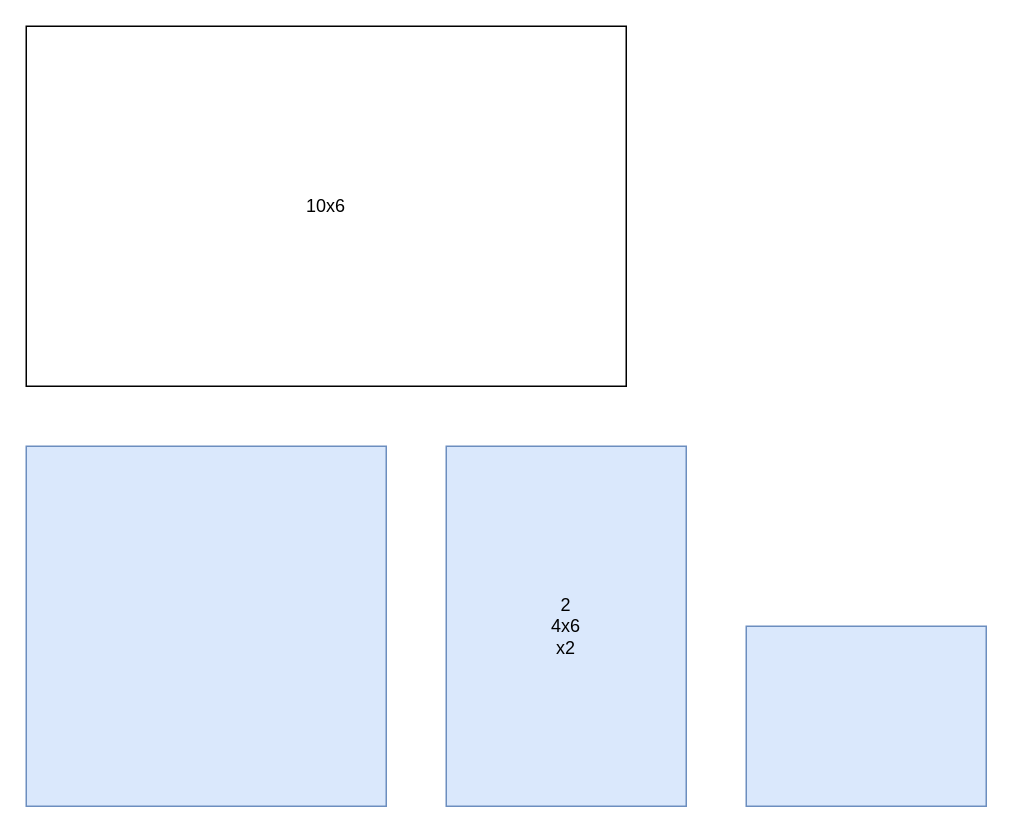
The diagram is 1013 pixels wide and 833 high, and some of its shapes have lost their labels. Here are the shapes that lost their labels. From the top down, the centre of each, then its label:
At (x=205, y=625): "1 6x6 x2".
At (x=865, y=715): "3 4x3 x2".
